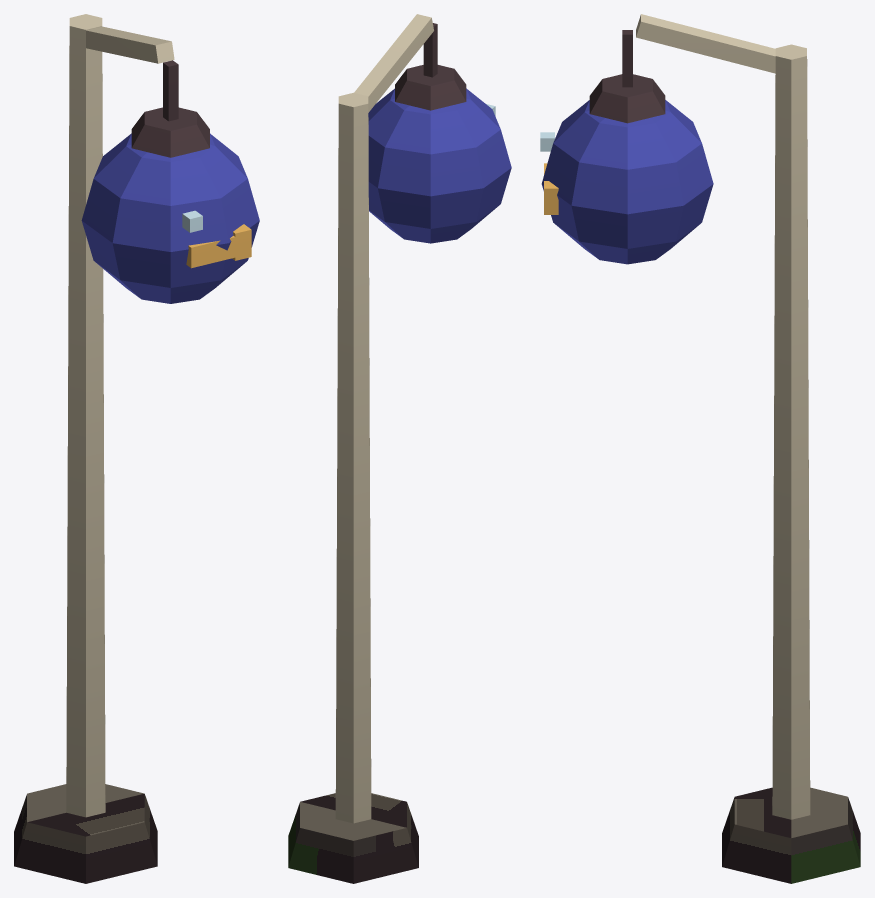
Rendered from orb_lantern.glb.
The picture shows the model from 3 angles, left to right: view 1: azimuth 30°, elevation 25°; view 2: azimuth 150°, elevation 25°; view 3: azimuth 270°, elevation 25°; orthographic projection. The views are drawn at different scales.
Visible parts, largest first — view 1: orb_lantern; view 2: orb_lantern; view 3: orb_lantern.
Boxes of the visible parts, x1,y1,x2,y2 form: orb_lantern: (14,14,259,883); orb_lantern: (288,14,511,883); orb_lantern: (540,14,860,883).
Size of the model in its own units: 0.4655 by 2.52 by 0.8805.
Materials: 3 (1 with a texture image).
